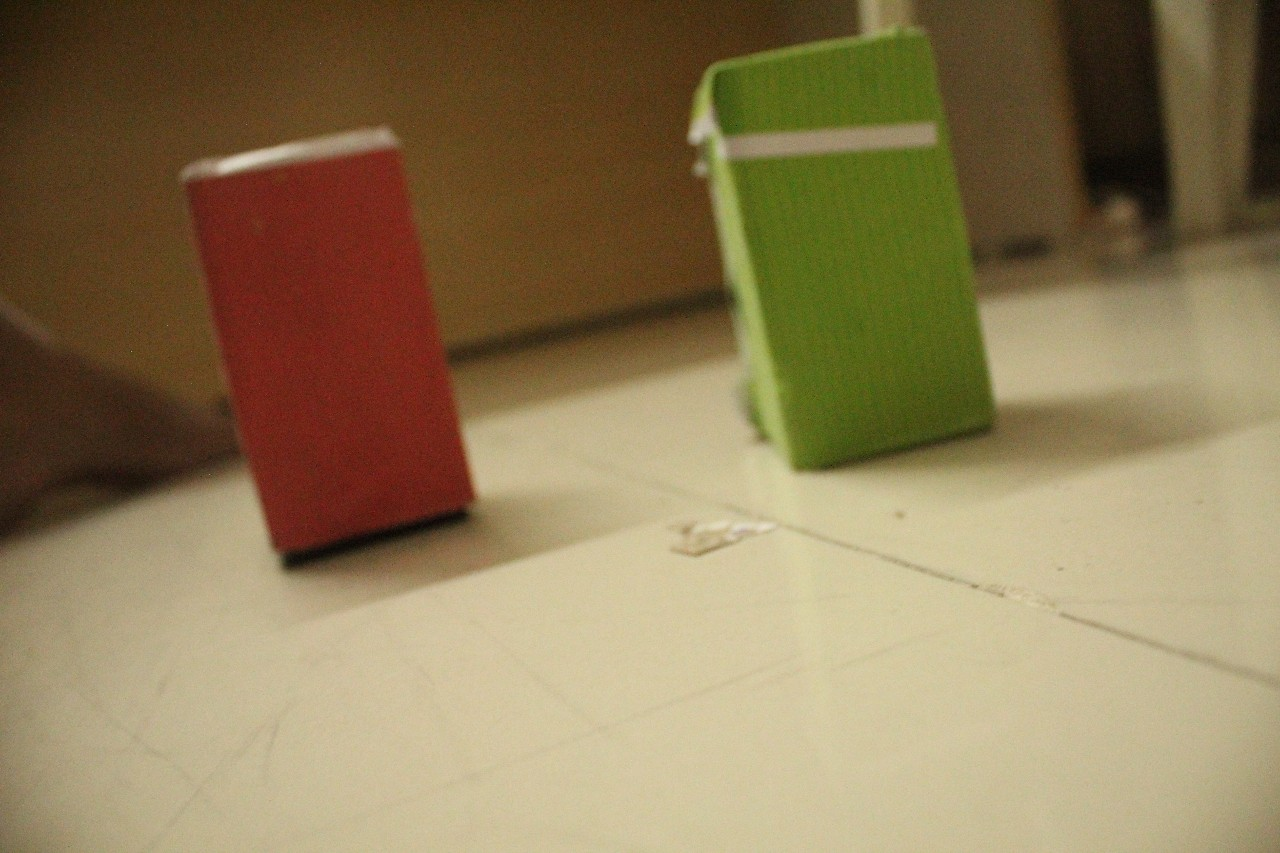green: (678, 4, 1011, 494)
red: (0, 0, 802, 609)
